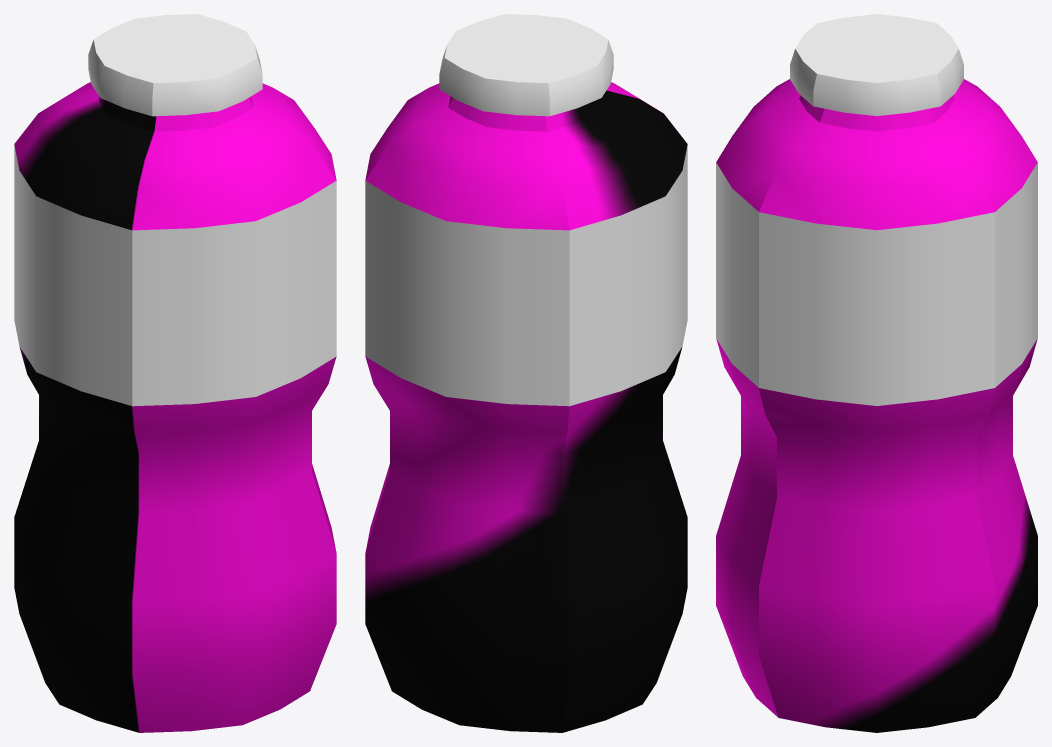
Rendered from milk2.gltf.
The picture shows the model from 3 angles, left to right: view 1: azimuth 30°, elevation 25°; view 2: azimuth 150°, elevation 25°; view 3: azimuth 270°, elevation 25°; orthographic projection.
Parts seen in each view (by area): view 1: Cube; view 2: Cube; view 3: Cube.
Boxes of the visible parts, x1,y1,x2,y2 form: Cube: [14, 14, 336, 732]; Cube: [365, 14, 687, 732]; Cube: [716, 14, 1037, 732].
Bounding box in the file's own units: 1.57 × 3.39 × 1.57.
